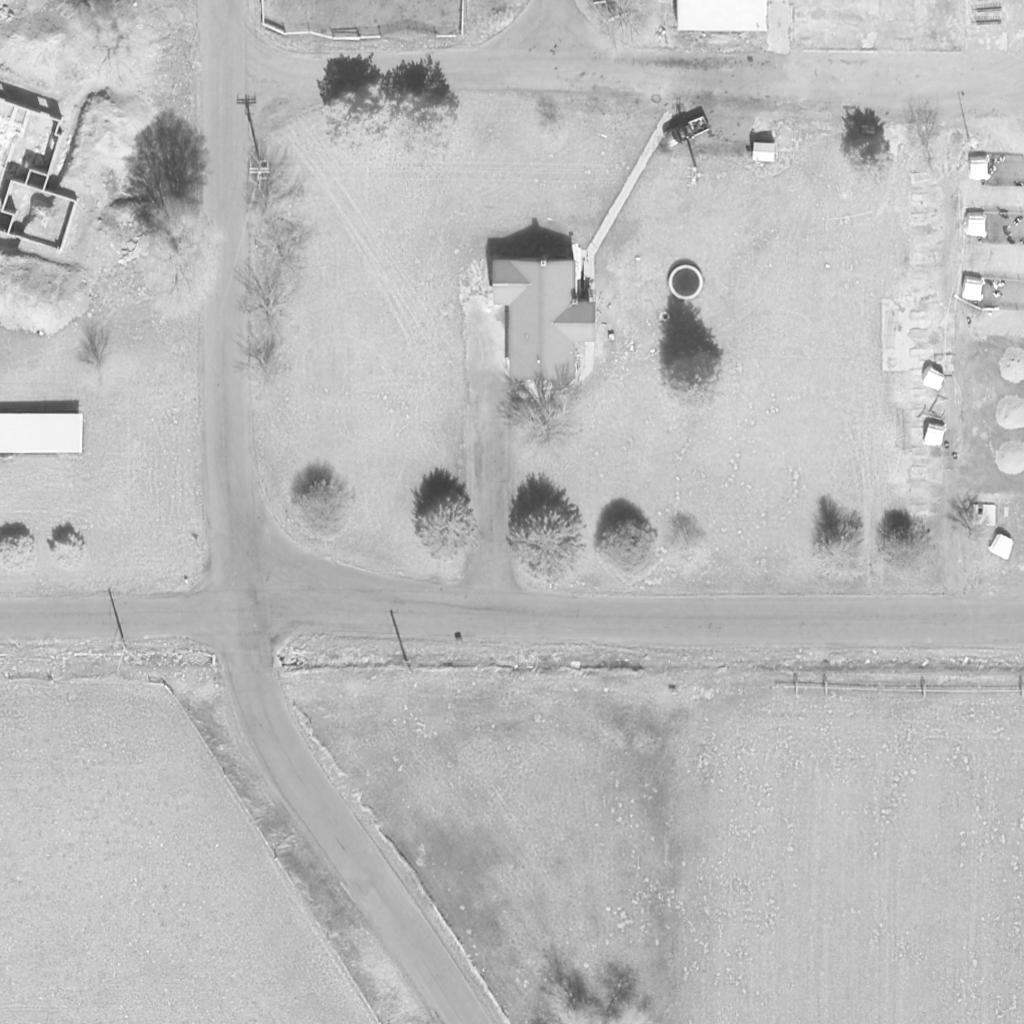vehicle: (661, 114, 711, 150)
